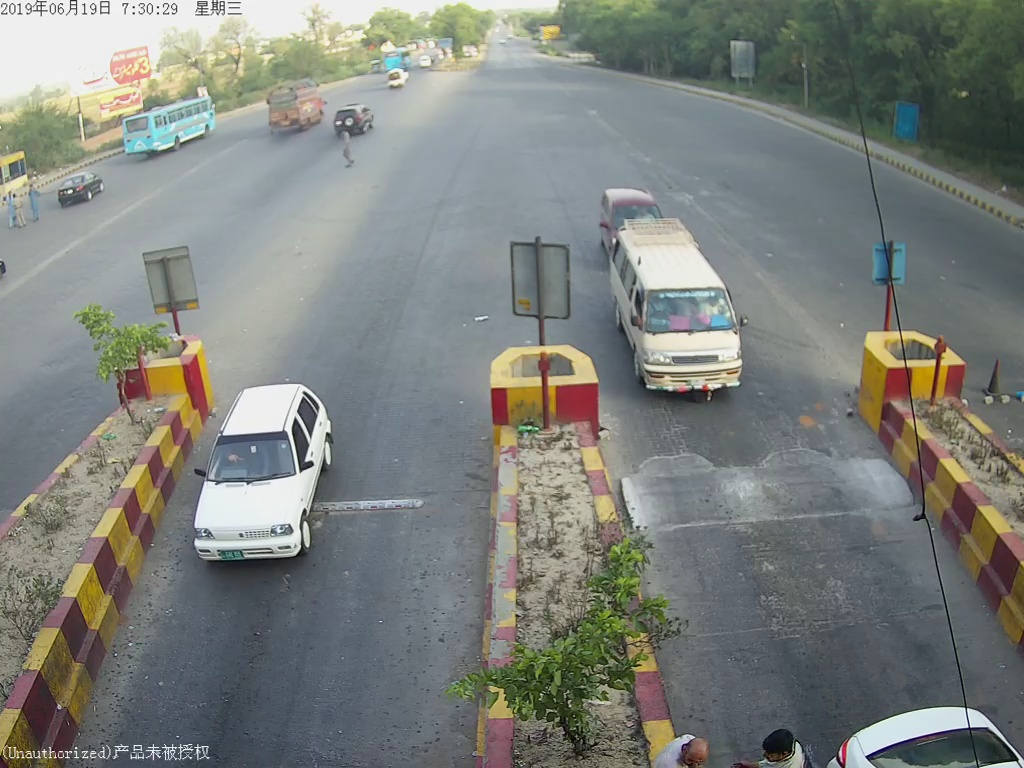Cat-1: (193, 381, 336, 571)
Cat-2: (609, 229, 757, 403)
